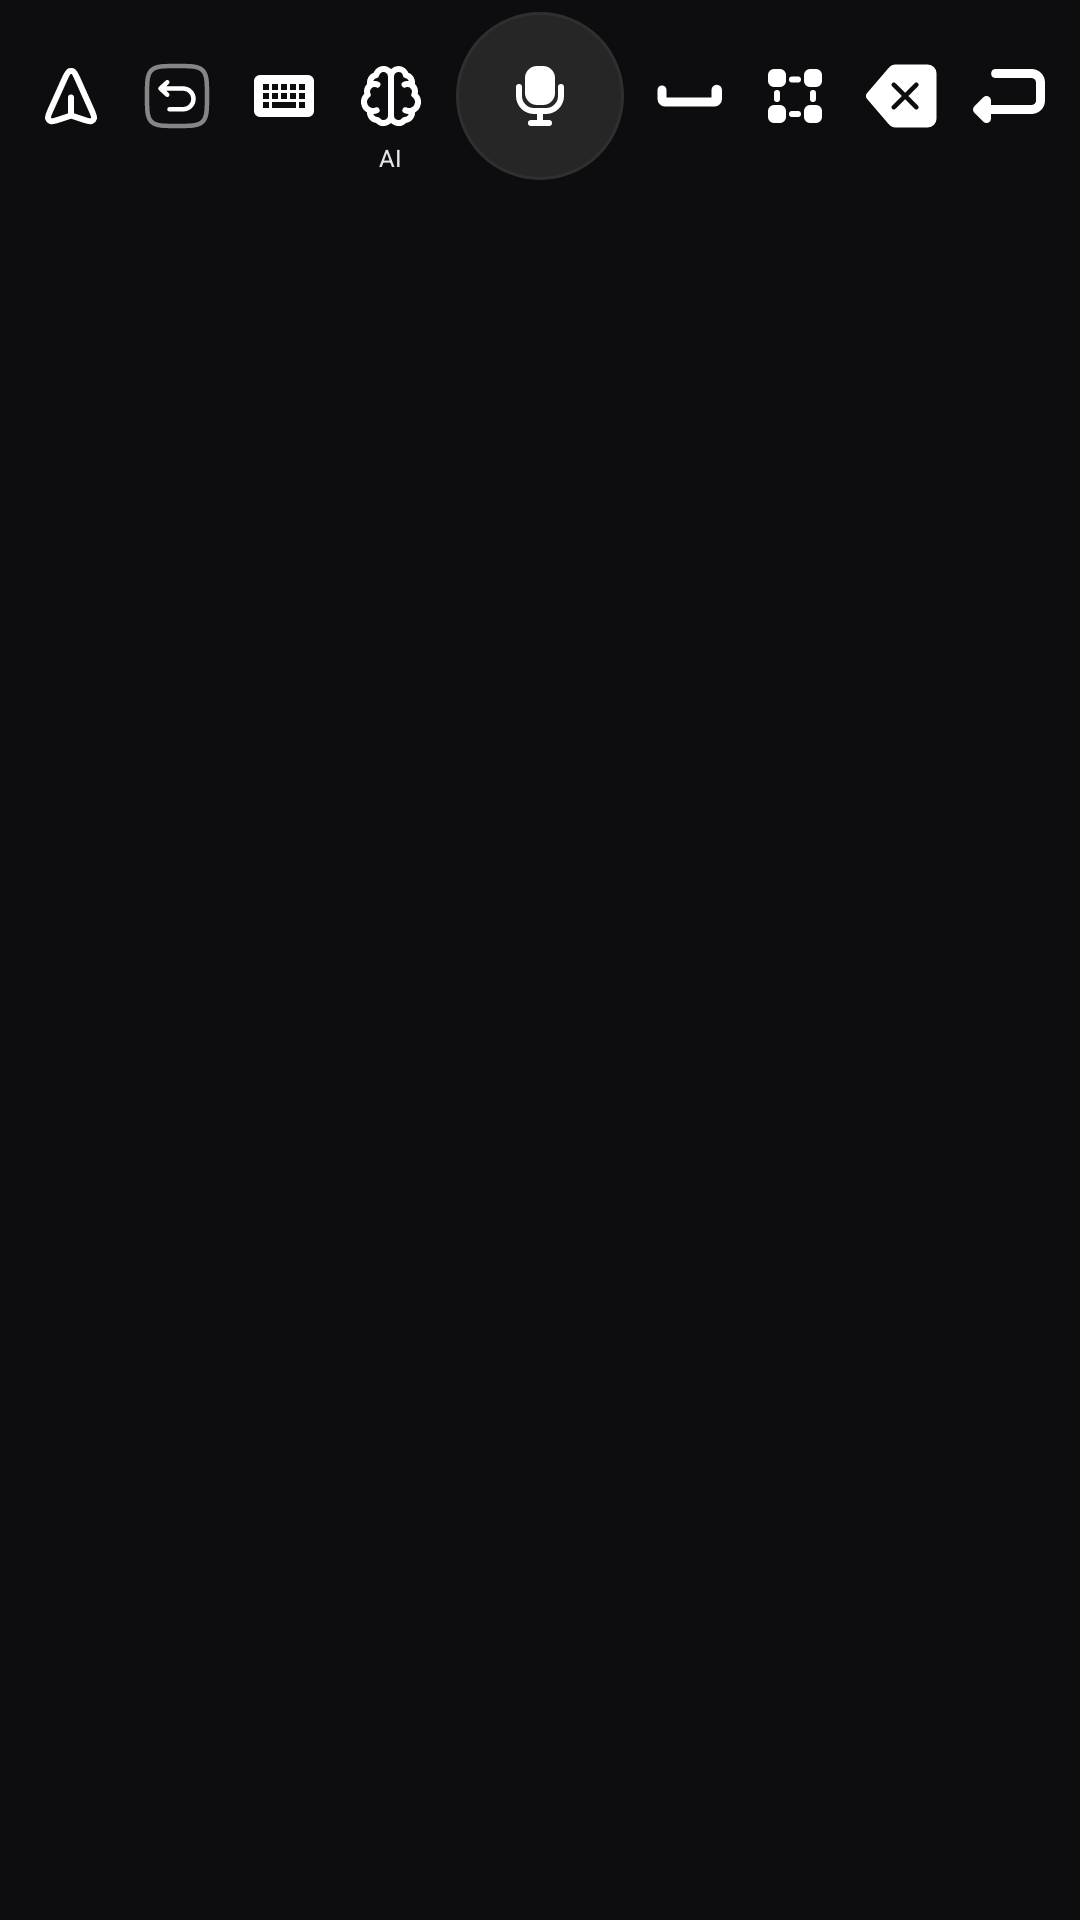

Icon click points for this 1080*1920 phone screenshot, format (x=x, y=y):
Backspace: (x=901, y=96)
Record / Stop: (x=540, y=96)
Return: (x=1009, y=96)
Select all text: (x=795, y=96)
Space: (x=689, y=95)
Switch keyboard: (x=284, y=96)
Undo last insertion: (x=177, y=96)
